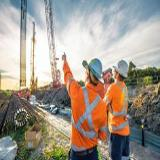Helmet: (112, 59, 129, 79)
Vest: (62, 59, 107, 149), (102, 81, 130, 136)
